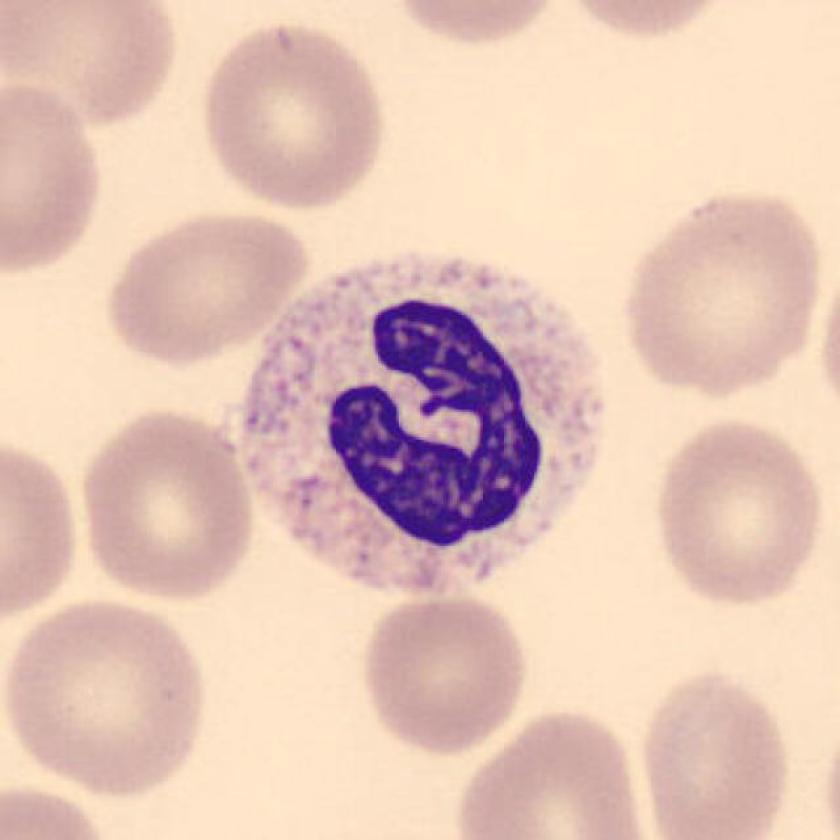neutrophil: (240, 257, 605, 592)
